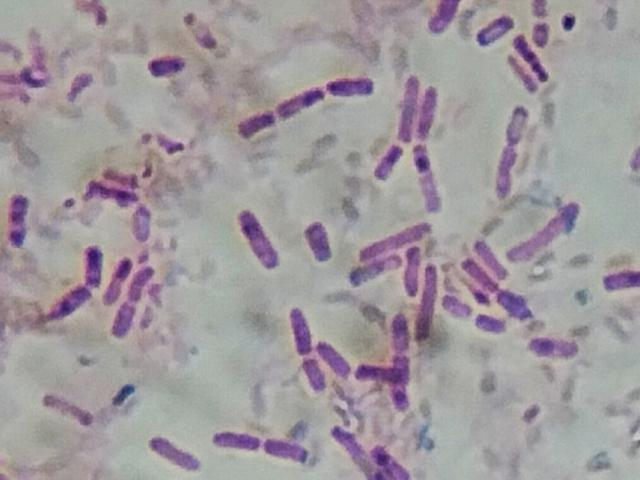E. coli: (510, 201, 587, 270), (227, 206, 283, 274), (328, 421, 373, 477), (42, 279, 94, 325), (362, 221, 437, 251), (413, 141, 445, 210), (2, 186, 35, 247), (274, 81, 327, 117), (386, 351, 417, 412), (150, 434, 200, 471), (606, 257, 640, 307), (514, 18, 551, 62), (368, 440, 407, 480), (285, 306, 316, 356), (420, 266, 442, 336), (299, 221, 336, 262), (526, 331, 580, 359), (317, 339, 358, 375), (236, 104, 279, 138), (145, 48, 192, 79), (399, 75, 420, 142), (265, 434, 313, 463), (88, 177, 139, 204), (345, 257, 400, 282), (370, 141, 406, 178), (425, 0, 460, 37), (462, 259, 497, 295), (326, 72, 376, 97), (419, 84, 442, 138), (499, 101, 529, 142), (494, 148, 519, 196), (216, 424, 264, 449), (477, 237, 507, 276), (79, 237, 103, 285), (498, 285, 528, 322), (130, 261, 160, 298), (106, 256, 130, 299), (116, 301, 142, 338), (476, 12, 509, 40), (388, 312, 413, 347), (445, 292, 476, 320), (356, 362, 394, 384), (404, 246, 423, 289), (299, 357, 328, 385), (133, 202, 152, 239), (475, 315, 502, 334)
